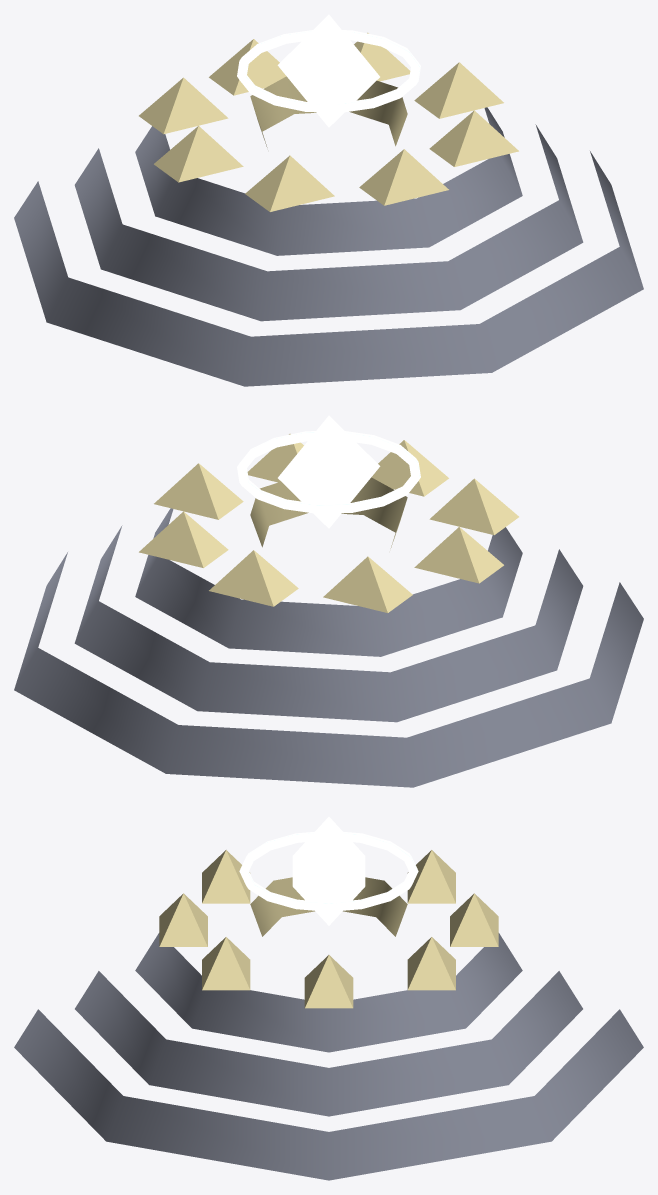
The model's file is mahar_mandala_pedestal.glb.
3 views of the same model, one above another, from view 1: azimuth 30°, elevation 25°; view 2: azimuth 150°, elevation 25°; view 3: azimuth 270°, elevation 25° (orthographic). The views are drawn at different scales.
Visible parts, largest first — view 1: RootNode; view 2: RootNode; view 3: RootNode.
Boxes of the visible parts, x1,y1,x2,y2 form: RootNode: [14, 14, 643, 386]; RootNode: [14, 415, 643, 787]; RootNode: [14, 817, 643, 1180].
Bounding box in the file's own units: 5.2 × 2.1 × 5.2.
